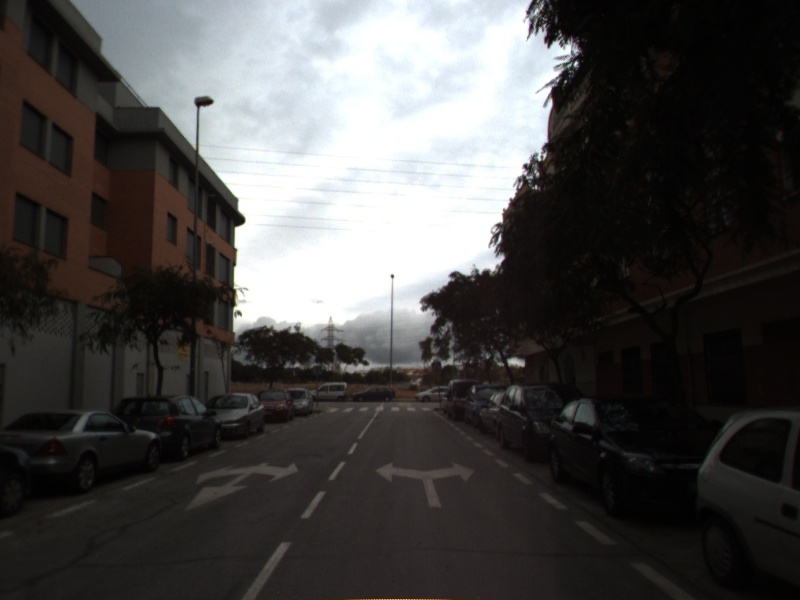LEFT_RIGHT: (373, 460, 477, 510)
